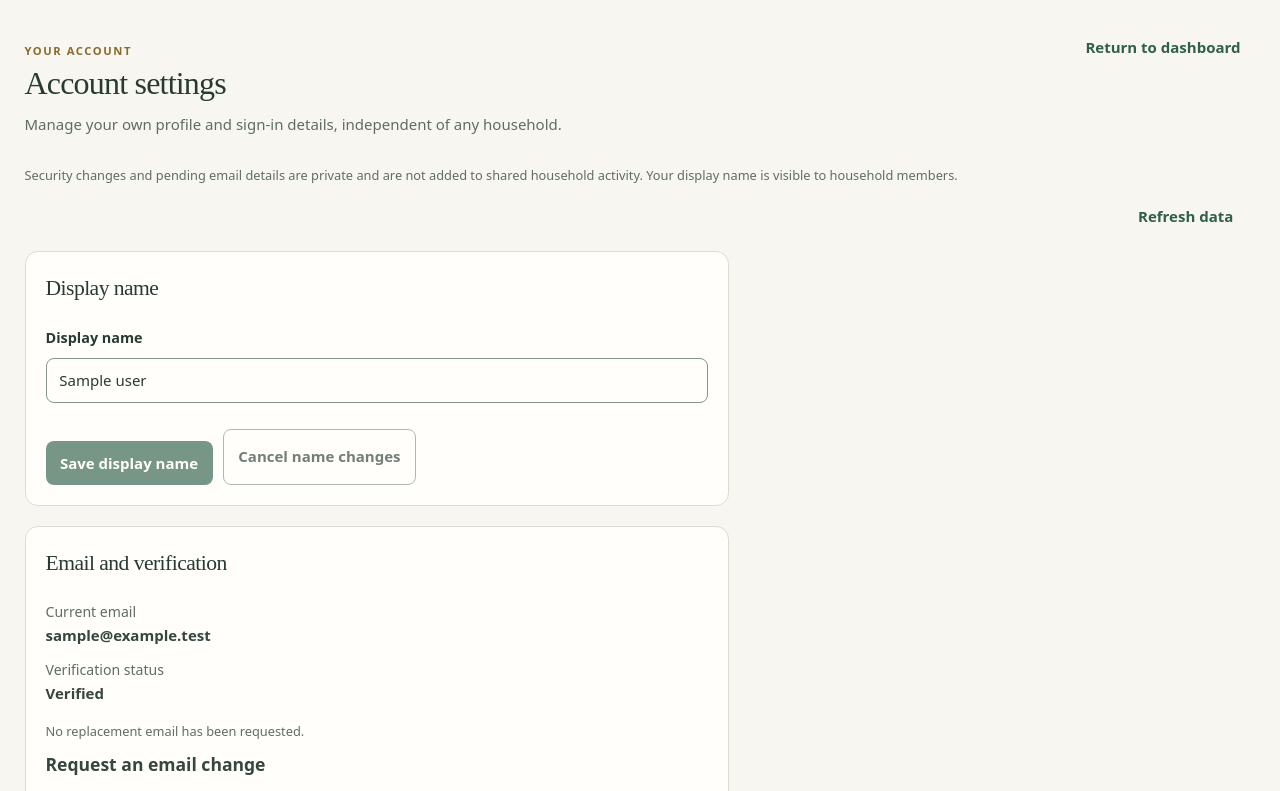
Test: personal account settings › marks a failed refresh as stale and disables saves until recovered
expect the field labelled "Display name" is enabled: met, box [46,358,708,403]
Click the button "Refresh data" at (1186, 216), box [1131,198,1240,235]
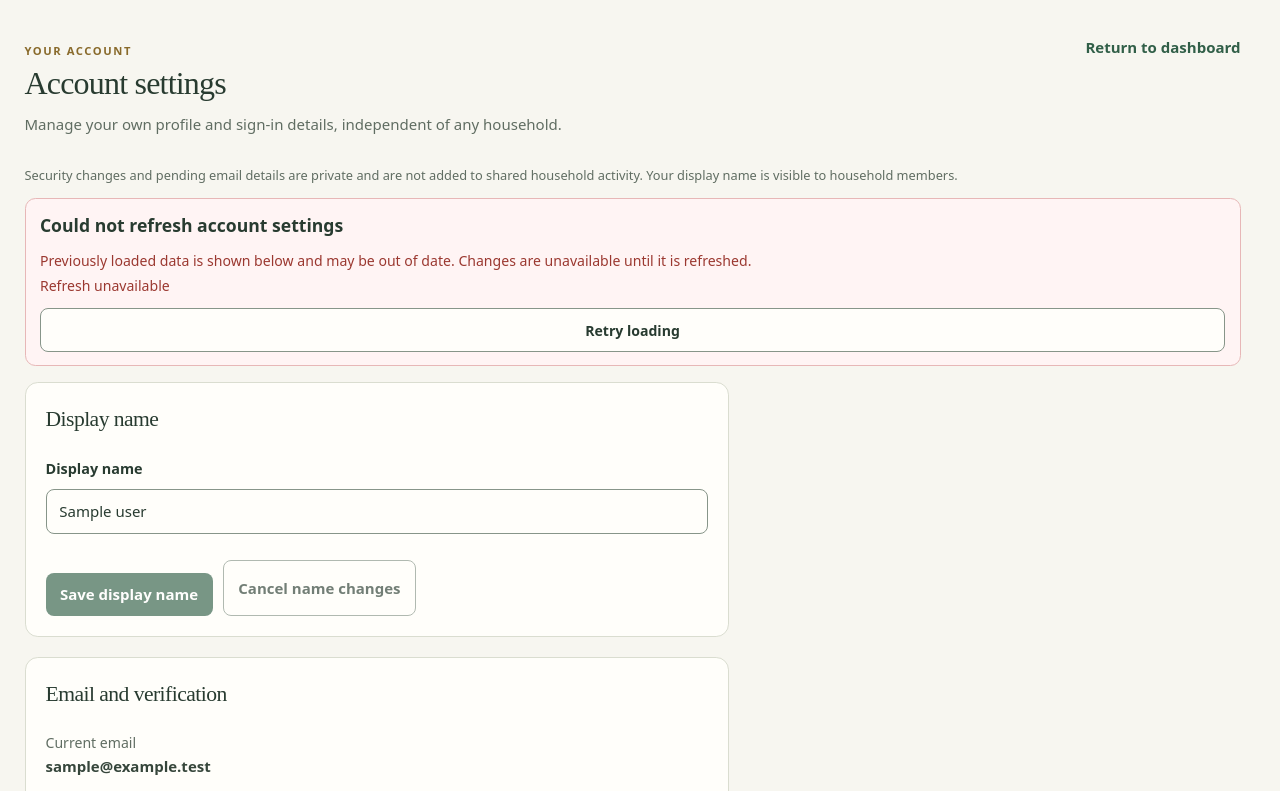
expect the text "sample@example.test" is shown: met, box [46,756,211,776]
expect the heading "Could not refresh account settings" is shown: met, box [40,213,343,237]
expect the field labelled "Display name" is disabled: met, box [46,489,708,534]
Click the button "Retry loading" at (632, 330), box [40,308,1225,352]
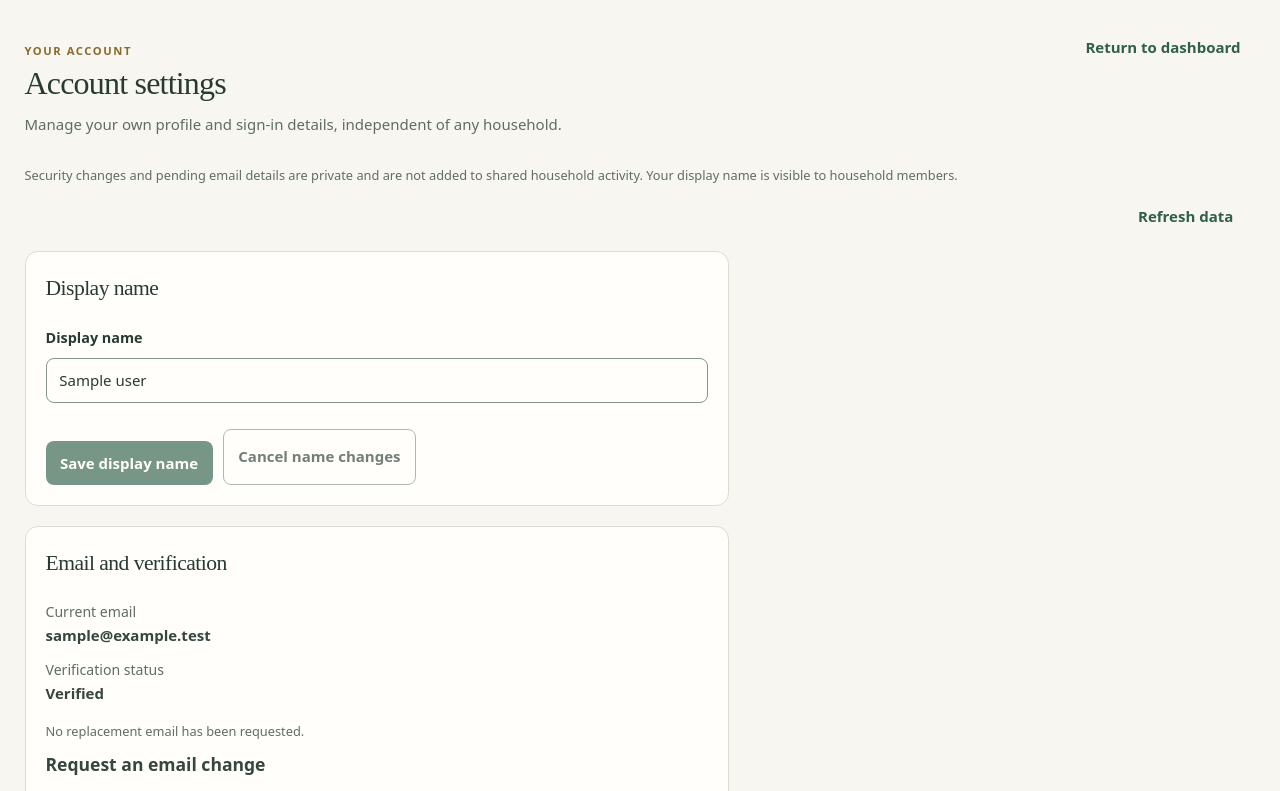
expect the field labelled "Display name" is enabled: met, box [46,358,708,403]
